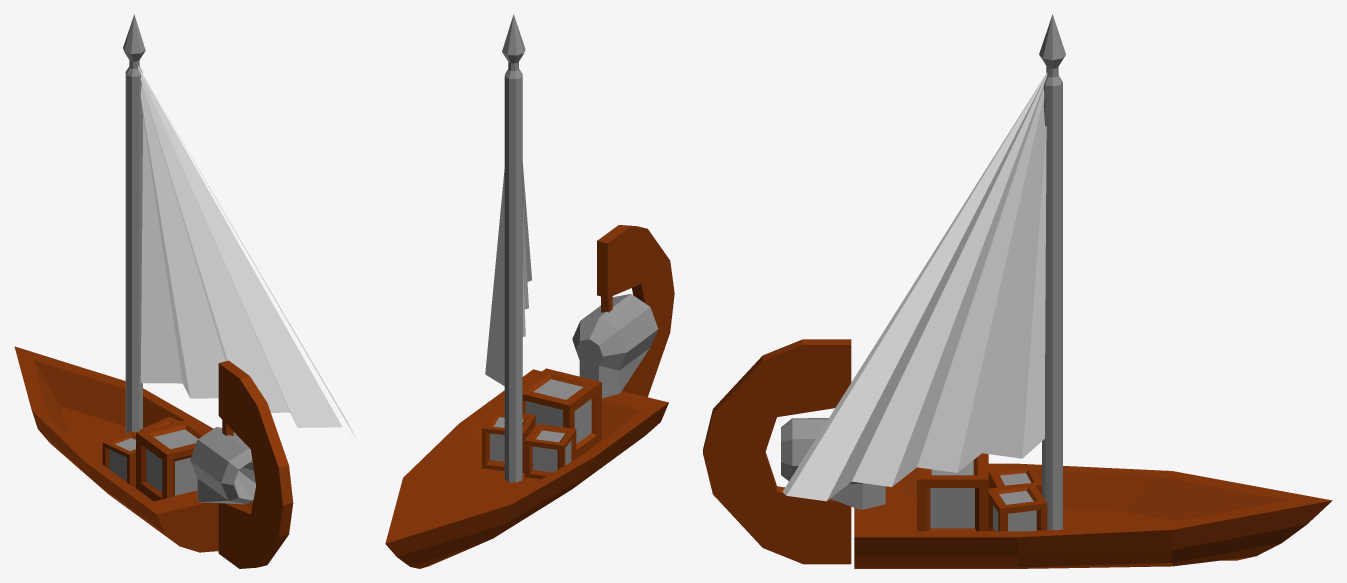
The model's file is shop.fbx.
3 renders of one model, left to right at view 1: azimuth 30°, elevation 25°; view 2: azimuth 150°, elevation 25°; view 3: azimuth 270°, elevation 25°, orthographic. The views are drawn at different scales.
Visible parts, largest first — view 1: Circle; view 2: Circle; view 3: Circle.
Boxes of the visible parts, <box> form: Circle: <box>14,14,356,568</box>; Circle: <box>385,14,674,568</box>; Circle: <box>703,14,1332,568</box>.
Bounding box in the file's own units: 345 × 870 × 909.
